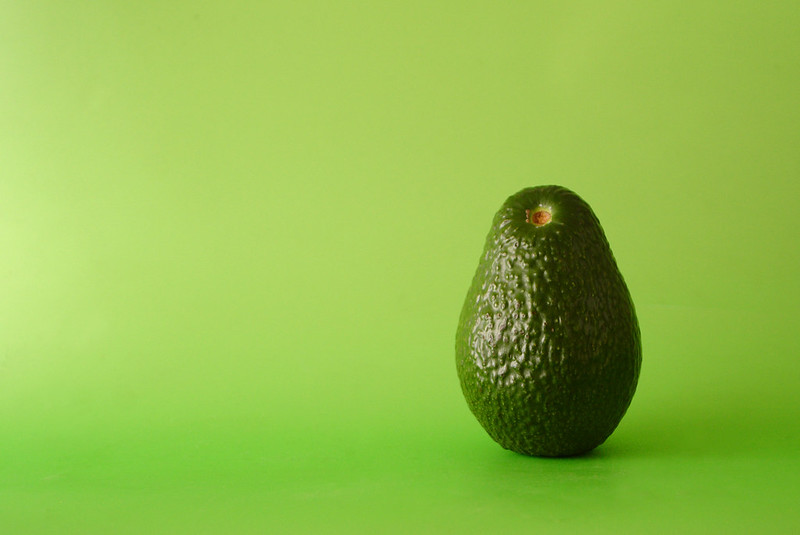abacate: (454, 184, 645, 463)
